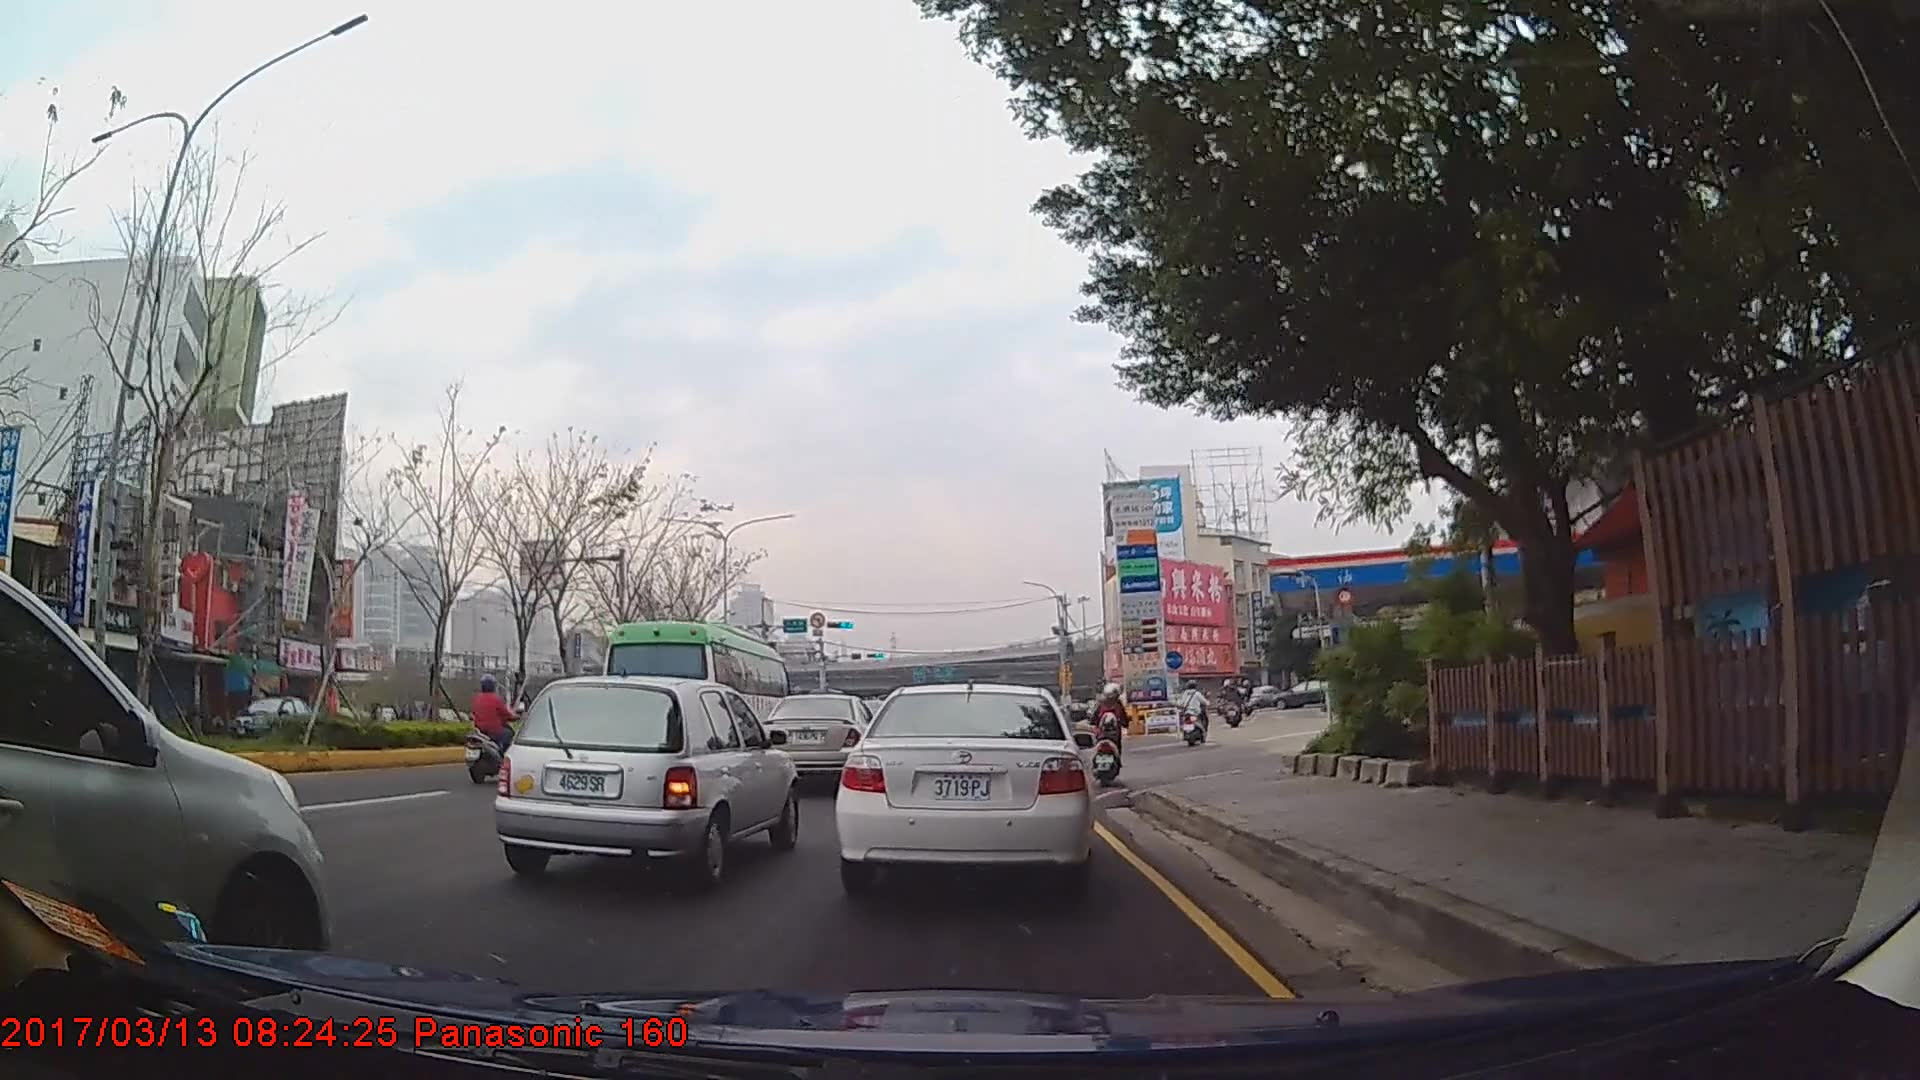rider: (465, 671, 528, 784), (1092, 683, 1130, 782), (1179, 679, 1208, 747), (1225, 676, 1245, 726)
vehicle: (0, 570, 329, 998), (494, 670, 800, 882), (839, 685, 1089, 890), (595, 615, 790, 776), (758, 691, 882, 784), (222, 689, 319, 740), (1269, 676, 1339, 706)
